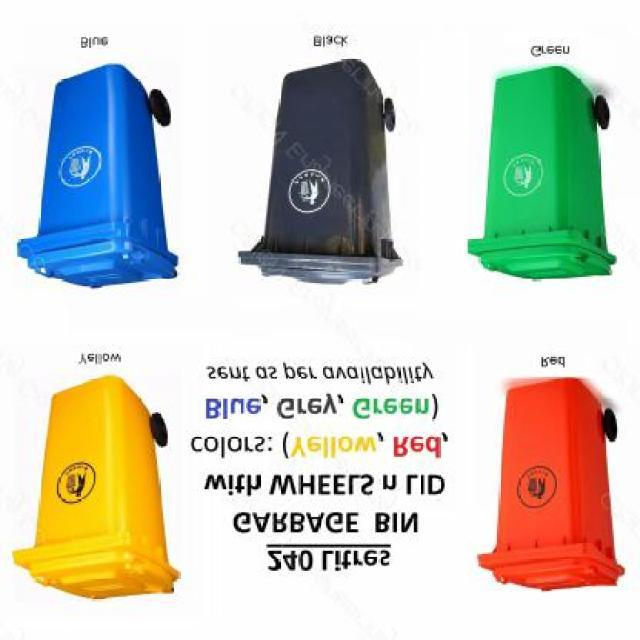garbage container: (9, 56, 202, 298), (3, 374, 197, 614), (231, 49, 417, 298), (458, 60, 638, 296), (473, 372, 638, 600)
